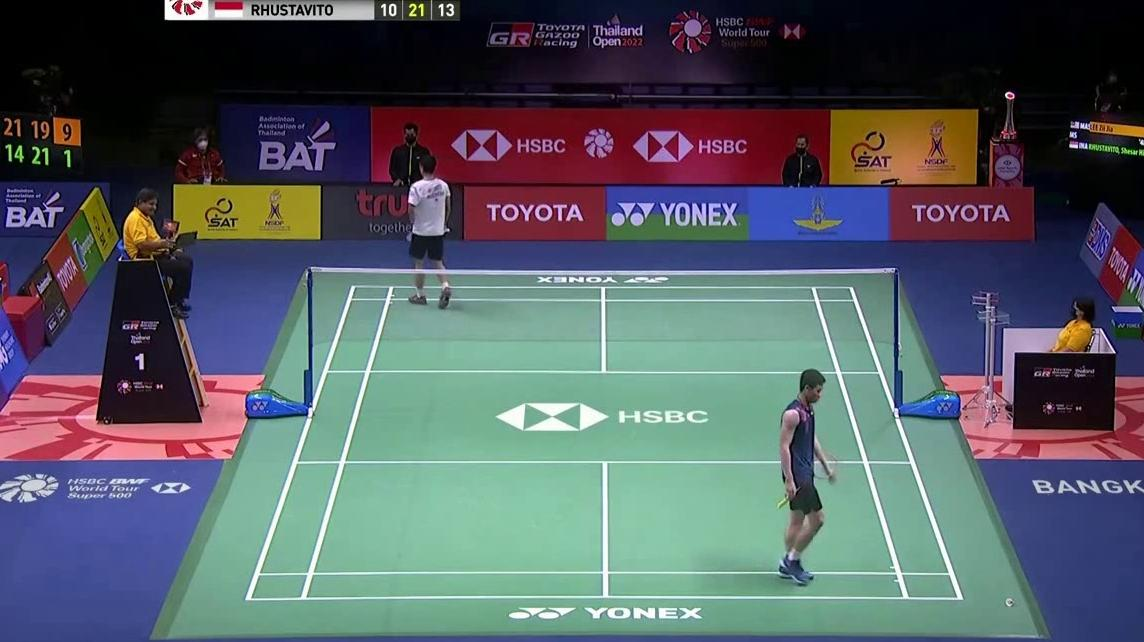racket: (775, 451, 839, 509), (406, 225, 451, 243)
shuttle: (1004, 596, 1015, 608)
